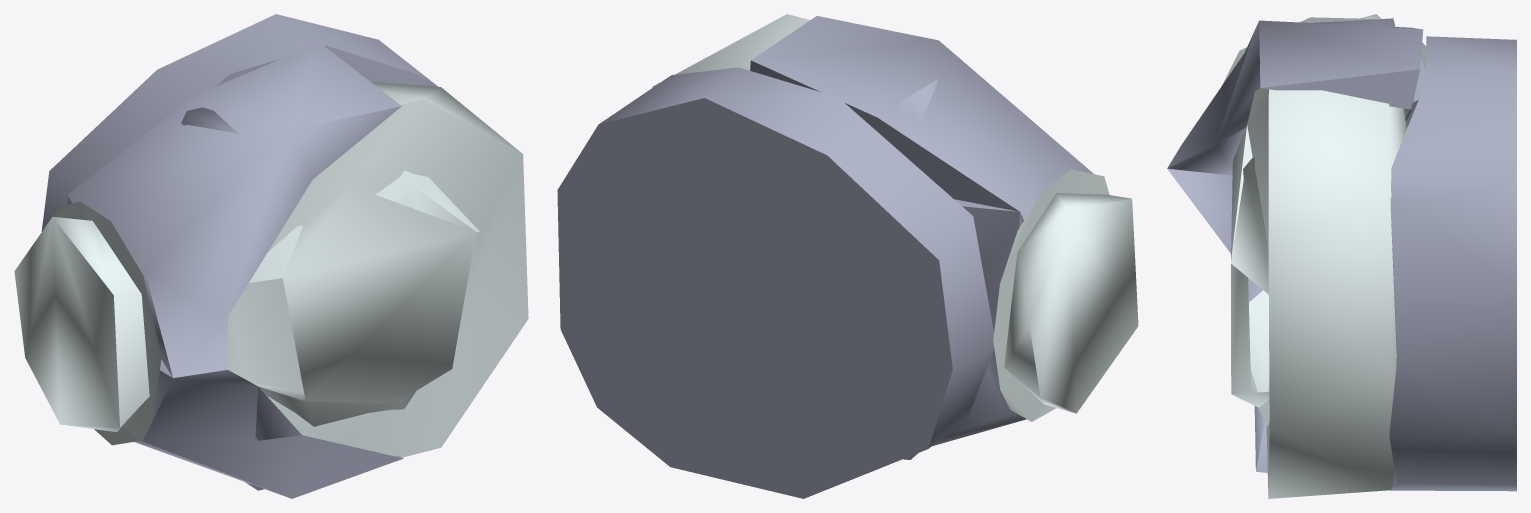
The model's file is hip_dae.dae.
3 views of the same model, side by side, from view 1: azimuth 30°, elevation 25°; view 2: azimuth 150°, elevation 25°; view 3: azimuth 270°, elevation 25° (orthographic). The views are drawn at different scales.
Visible parts, largest first — view 1: hip_dae; view 2: hip_dae; view 3: hip_dae.
Boxes of the visible parts, left/top/right/bottom form: hip_dae: left=14, top=14, right=528, bottom=498; hip_dae: left=557, top=14, right=1138, bottom=498; hip_dae: left=1167, top=14, right=1516, bottom=498.
Bounding box in the file's own units: 0.1181 × 0.0746 × 0.0973.
